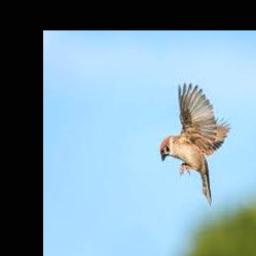Sparrow: (159, 83, 230, 205)
